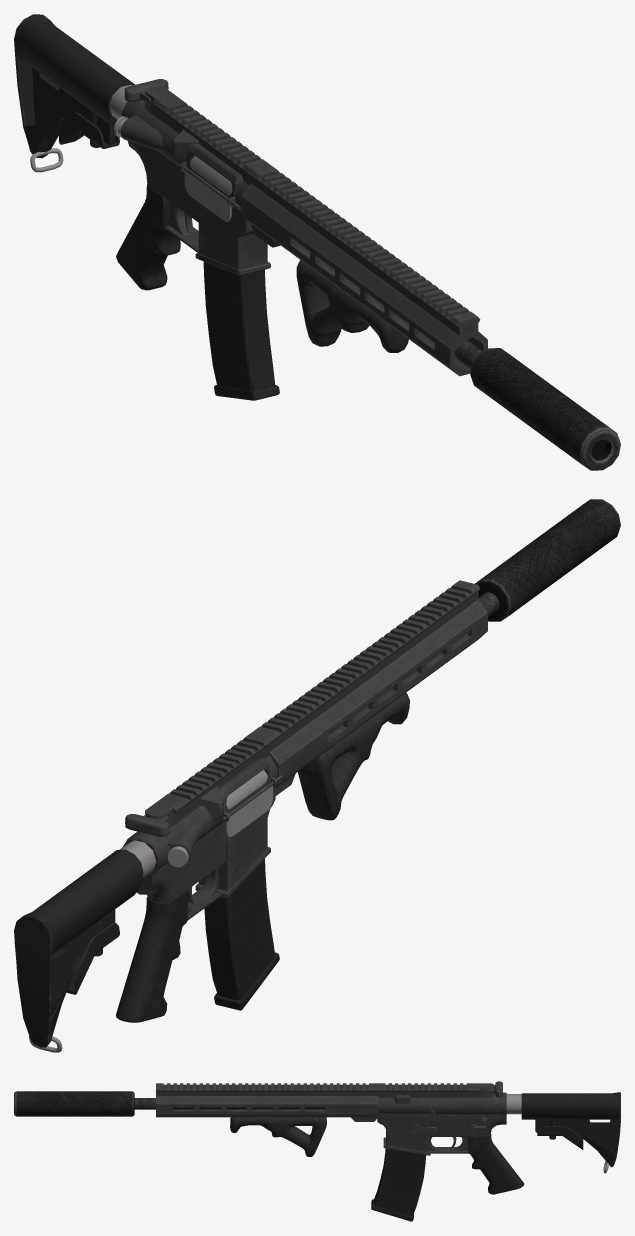
The model's file is m4_rifle.glb.
3 renders of one model, top to bottom at view 1: azimuth 30°, elevation 25°; view 2: azimuth 150°, elevation 25°; view 3: azimuth 270°, elevation 25°, orthographic. The views are drawn at different scales.
Parts seen in each view (by area): view 1: rail, barrelShell, magazine, pCylinder1, stockMain, foregrip, recieverMain, grip, magwell, stockLower, plungerThingy, stockBottom (+3 smaller); view 2: rail, stockMain, barrelShell, magazine, pCylinder1, recieverMain, grip, foregrip, magwell, stockLower, stockBottom, ejectorFlap (+4 smaller); view 3: barrelShell, rail, recieverMain, stockMain, pCylinder1, magazine, foregrip, grip, magwell, stockLower, barrel, stockBottom (+2 smaller).
Boxes of the visible parts, left/top/right/bottom form: rail: left=144, top=85, right=480, bottom=335; barrelShell: left=241, top=183, right=487, bottom=376; magazine: left=203, top=261, right=279, bottom=400; pCylinder1: left=470, top=348, right=620, bottom=470; stockMain: left=14, top=14, right=134, bottom=158; foregrip: left=296, top=260, right=408, bottom=352; recieverMain: left=122, top=100, right=248, bottom=222; grip: left=116, top=184, right=180, bottom=290; magwell: left=195, top=202, right=270, bottom=275; stockLower: left=32, top=67, right=115, bottom=144; plungerThingy: left=114, top=115, right=163, bottom=152; stockBottom: left=59, top=112, right=119, bottom=148; rail: left=145, top=580, right=480, bottom=828; stockMain: left=14, top=849, right=143, bottom=1047; barrelShell: left=269, top=599, right=487, bottom=795; magazine: left=204, top=859, right=279, bottom=1010; pCylinder1: left=475, top=499, right=620, bottom=621; recieverMain: left=123, top=756, right=277, bottom=902; grip: left=116, top=891, right=188, bottom=1022; foregrip: left=298, top=693, right=409, bottom=820; magwell: left=195, top=787, right=275, bottom=897; stockLower: left=51, top=909, right=115, bottom=1006; stockBottom: left=66, top=923, right=119, bottom=994; ejectorFlap: left=226, top=785, right=272, bottom=836; barrelShell: left=156, top=1096, right=378, bottom=1121; rail: left=156, top=1083, right=494, bottom=1097; recieverMain: left=378, top=1092, right=506, bottom=1136; stockMain: left=521, top=1092, right=620, bottom=1166; pCylinder1: left=14, top=1091, right=134, bottom=1116; magazine: left=371, top=1148, right=426, bottom=1221; foregrip: left=230, top=1117, right=326, bottom=1156; grip: left=468, top=1133, right=524, bottom=1194; magwell: left=377, top=1113, right=430, bottom=1155; stockLower: left=535, top=1119, right=618, bottom=1151; barrel: left=134, top=1098, right=325, bottom=1109; stockBottom: left=537, top=1126, right=583, bottom=1149.
Size of the model in its own units: 1.4 by 5.75 by 23.8.
4 materials, 4 textured.
